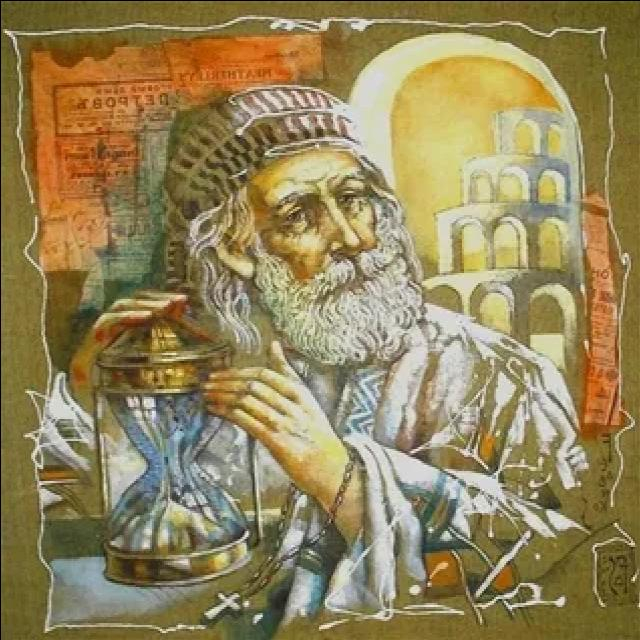clock: (96, 327, 260, 593)
